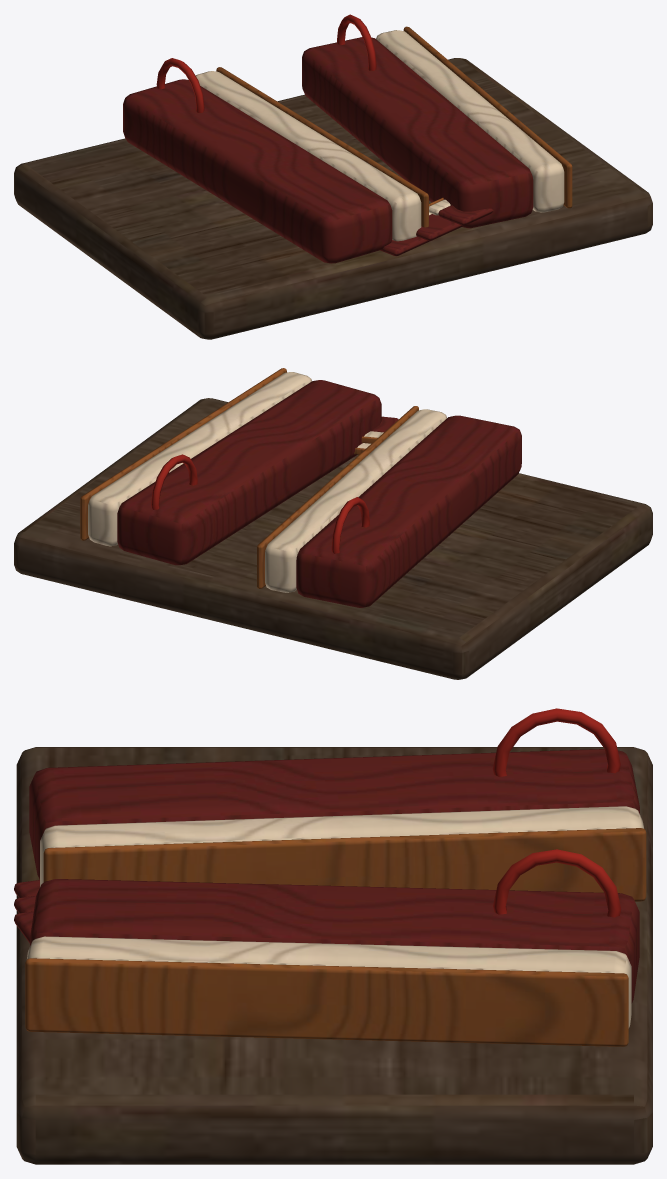
The model's file is PROP_Season_Stand_Pork.glb.
3 views of the same model, one above another, from view 1: azimuth 30°, elevation 25°; view 2: azimuth 150°, elevation 25°; view 3: azimuth 270°, elevation 25° (orthographic). The views are drawn at different scales.
Visible parts, largest first — view 1: PROP_Season_Stand_Pork; view 2: PROP_Season_Stand_Pork; view 3: PROP_Season_Stand_Pork.
Boxes of the visible parts, box(x1,y1,x2,y2) form: PROP_Season_Stand_Pork: box(14, 14, 652, 339); PROP_Season_Stand_Pork: box(14, 368, 652, 679); PROP_Season_Stand_Pork: box(14, 708, 652, 1164).
Size of the model in its own units: 0.27 by 0.0742 by 0.2008.
5 materials, 5 textured.
